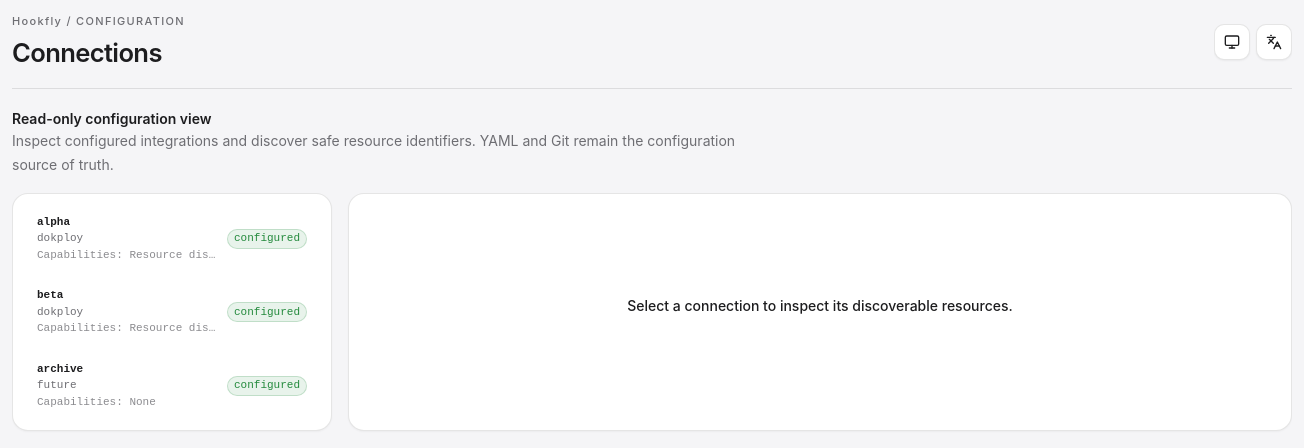
Test: shows unavailable capability without requesting resources
Click the button "archive future Capabilities: None configured": (60, 369) left=25, top=353, right=319, bottom=418
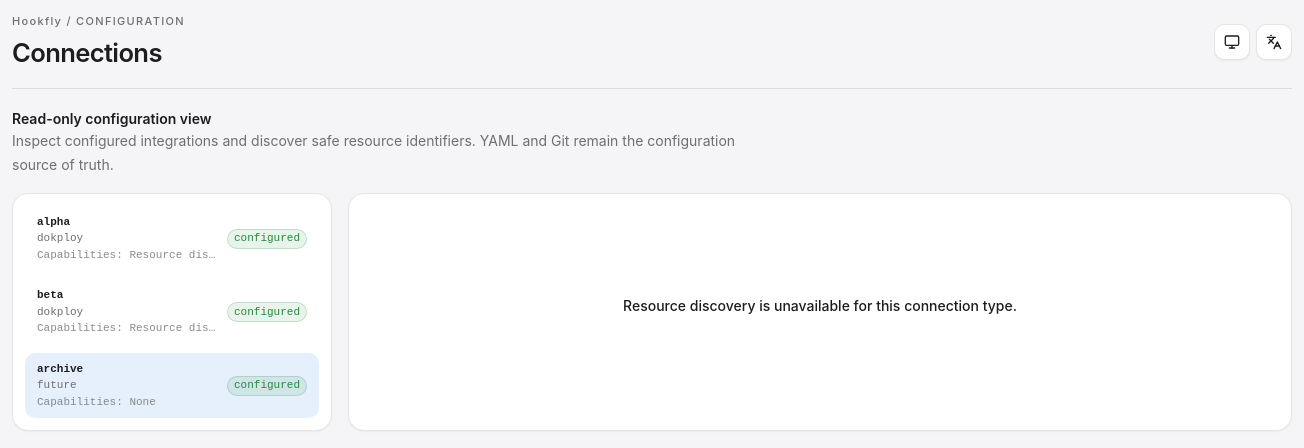
Expected: the text "Resource discovery is unavailable for this connection type." is shown, left=623, top=296, right=1017, bottom=316
